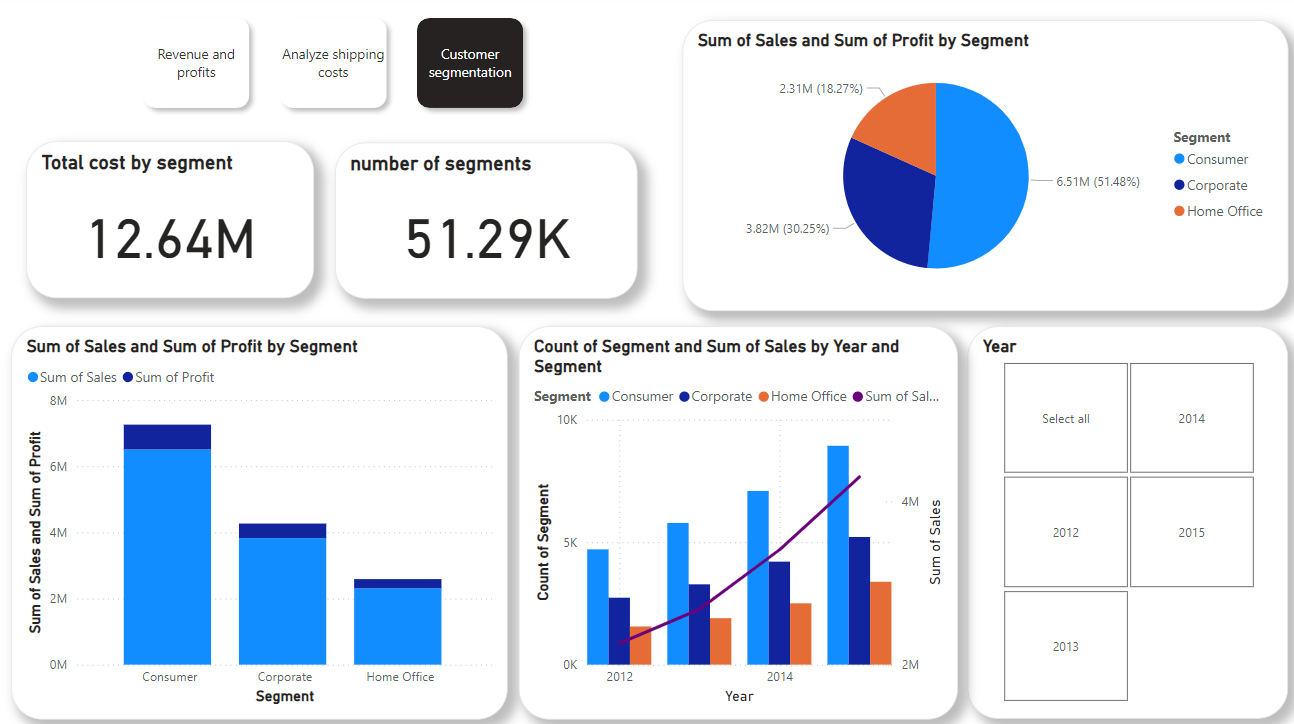

What the dashboard file says about the page in this screenshot:
{"tool":"powerbi","page":{"name":"Customer segmentation","canvas":[1280,720],"ordinal":2},"visuals":[{"type":"pieChart","fields":{"Category":["Orders.Segment"],"Y":["Sum(Orders.Sales)"]},"box":[672.5,25,592.5,285],"z":0},{"type":"columnChart","fields":{"Category":["Orders.Segment"],"Y":["Sum(Orders.Sales)","Sum(Orders.Profit)"]},"box":[15.9,324.1,485.5,385.2],"z":1000},{"type":"slicer","title":"Year","fields":{"Values":["DateDimention.Date.Variation.Date Hierarchy.Year"]},"box":[951.2,323.8,313.8,383.8],"z":2000},{"type":"card","title":"Total cost by segment","fields":{"Values":["Sum(Orders.Sales)"]},"box":[30,142.5,281.2,153.8],"z":3000},{"type":"lineClusteredColumnComboChart","fields":{"Category":["DateDimention.Date.Variation.Date Hierarchy.Year"],"Y":["CountNonNull(Orders.Segment)"],"Series":["Orders.Segment"],"Y2":["Sum(Orders.Sales)"]},"box":[512.4,324.1,429.2,385.2],"z":4000},{"type":"card","title":"number of segments","fields":{"Values":["CountNonNull(Orders.Segment)"]},"box":[332.5,143.8,296.2,152.5],"z":5000},{"type":"pageNavigator","box":[136.2,13.8,392.5,106.2],"z":6000}]}

Visuals, with their boxes in screenshot pixels (x1, y1, x2, y2), scaled from the page's 1280x720 canvas onto the 1294x724 screenshot:
pieChart - Orders.Segment x Sum(Orders.Sales): <region>680, 25, 1279, 312</region>
columnChart - Orders.Segment x Sum(Orders.Sales): <region>16, 326, 507, 713</region>
"Year" slicer: <region>962, 326, 1279, 712</region>
"Total cost by segment" card: <region>30, 143, 315, 298</region>
lineClusteredColumnComboChart - DateDimention.Date.Variation.Date Hierarchy.Year x CountNonNull(Orders.Segment): <region>518, 326, 952, 713</region>
"number of segments" card: <region>336, 145, 636, 298</region>
pageNavigator: <region>138, 14, 534, 121</region>
